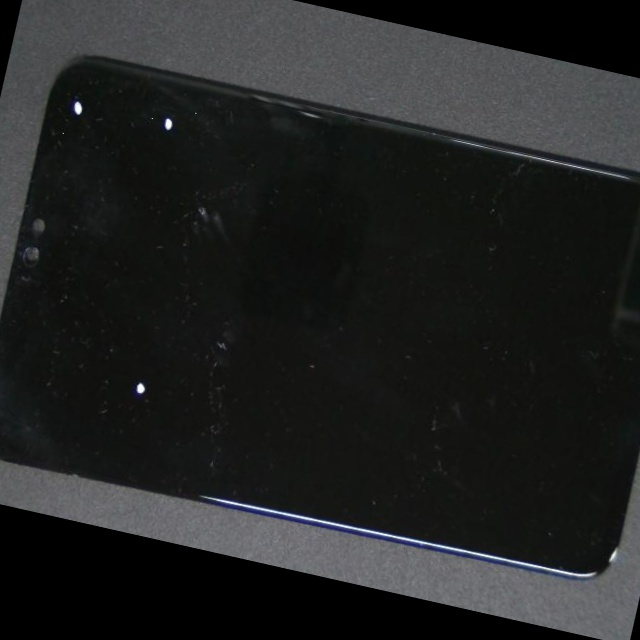stain: (0, 138, 277, 548), (58, 31, 235, 209), (1, 7, 117, 202)
